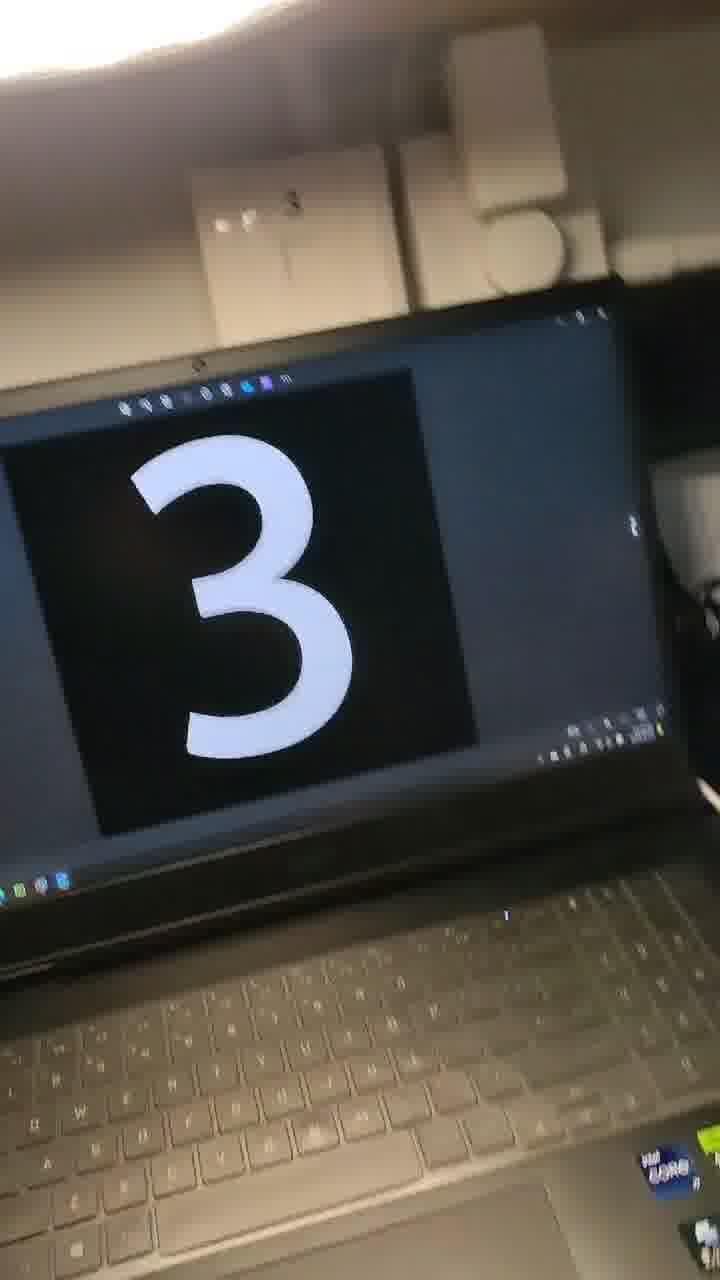three: (107, 379, 442, 802)
